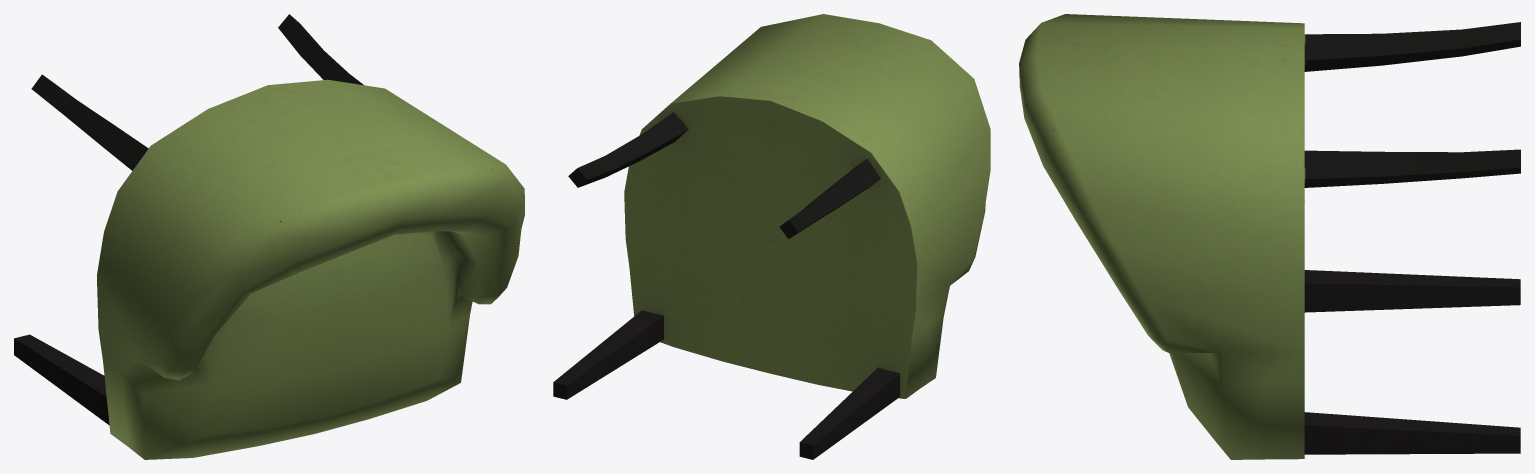
The model's file is nt_2020_chair_yellowgreen_LOD0.obj.
The picture shows the model from 3 angles, left to right: view 1: azimuth 30°, elevation 25°; view 2: azimuth 150°, elevation 25°; view 3: azimuth 270°, elevation 25°; orthographic projection. The views are drawn at different scales.
Parts seen in each view (by area): view 1: mtl_nt_2020_chair5_yellowgreen; view 2: mtl_nt_2020_chair5_yellowgreen; view 3: mtl_nt_2020_chair5_yellowgreen.
Part boxes in pixels (x1=…): mtl_nt_2020_chair5_yellowgreen: x1=14, y1=14, x2=524, y2=459; mtl_nt_2020_chair5_yellowgreen: x1=553, y1=14, x2=990, y2=459; mtl_nt_2020_chair5_yellowgreen: x1=1019, y1=14, x2=1520, y2=459.
Bounding box in the file's own units: 69.97 × 62.12 × 83.5.
